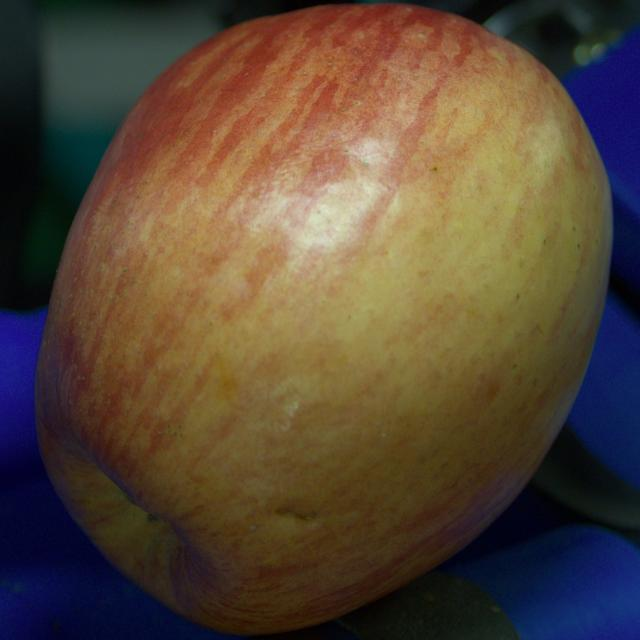apple: (35, 5, 612, 634)
scratch: (276, 509, 316, 521)
